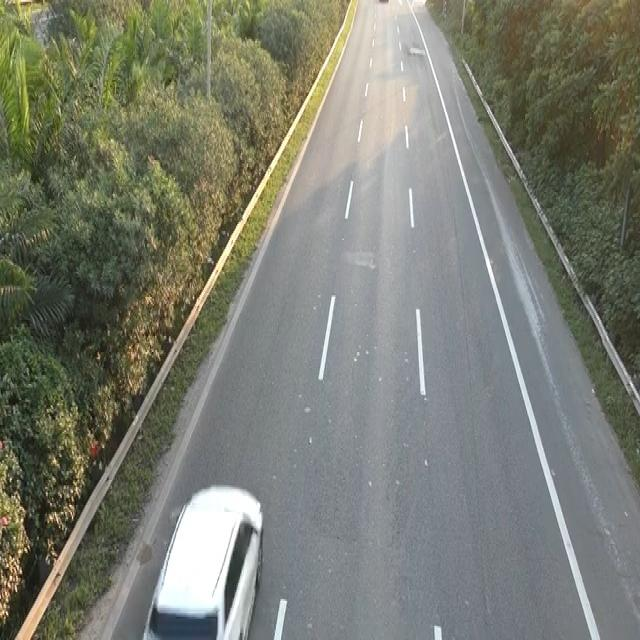bus: (141, 478, 265, 636)
